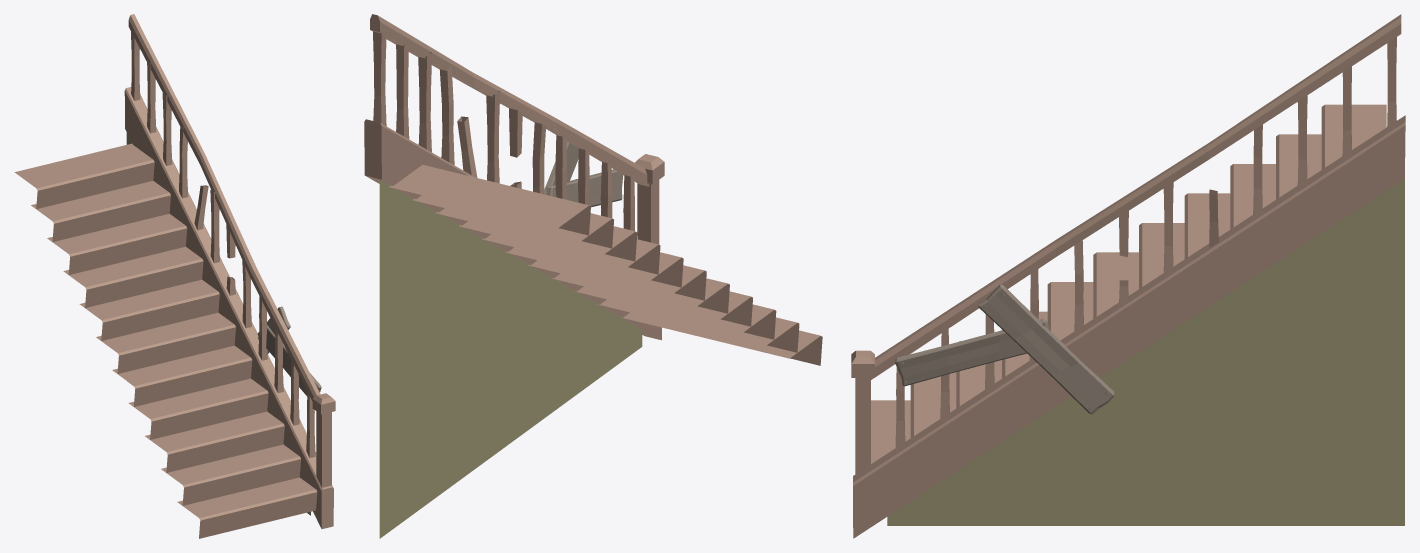
File: Stairs.fbx
The picture shows the model from 3 angles, left to right: view 1: azimuth 30°, elevation 25°; view 2: azimuth 150°, elevation 25°; view 3: azimuth 270°, elevation 25°; orthographic projection. The views are drawn at different scales.
Visible parts, largest first — view 1: Stairs; view 2: Stairs; view 3: Stairs.
Boxes of the visible parts, x1=… form: Stairs: x1=14, y1=14, x2=335, y2=538; Stairs: x1=364, y1=14, x2=822, y2=538; Stairs: x1=851, y1=14, x2=1405, y2=538.
Bounding box in the file's own units: 305 × 803 × 776.
